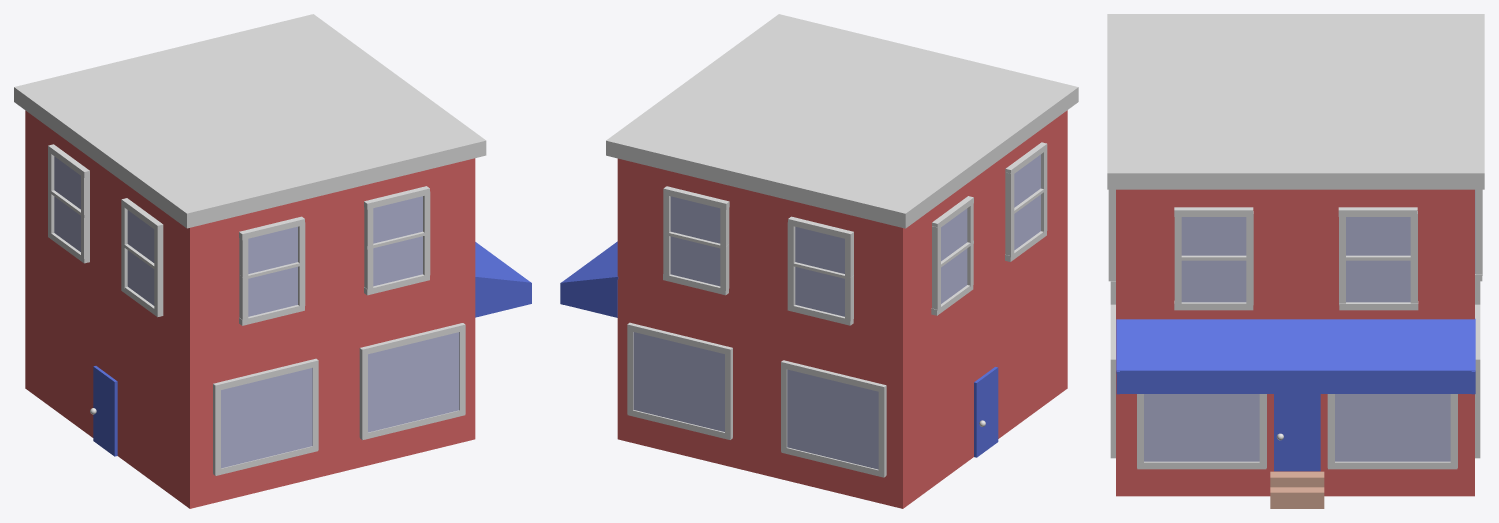
The model's file is onebyoneshop.glb.
3 renders of one model, left to right at view 1: azimuth 30°, elevation 25°; view 2: azimuth 150°, elevation 25°; view 3: azimuth 270°, elevation 25°, orthographic. The views are drawn at different scales.
Visible parts, largest first — view 1: Cube, Cube.001, Cube.007, Cube.027, Cube.010, Cube.009, Cube.019, Cube.028, Cube.006, Cube.013, Cube.015, Cube.030 (+4 smaller); view 2: Cube, Cube.001, Cube.025, Cube.008, Cube.011, Cube.012, Cube.026, Cube.023, Cube.015, Cube.017, Cube.018, Cube.030 (+4 smaller); view 3: Cube.001, Cube, Cube.015, Cube.004, Cube.005, Cube.002, Cube.003, Cube.024, Cube.014, Cube.016, Cube.021, Cube.020 (+5 smaller).
Boxes of the visible parts, x1,y1,x2,y2 form: Cube: [25, 110, 475, 508]; Cube.001: [14, 14, 486, 228]; Cube.007: [368, 332, 459, 432]; Cube.027: [221, 368, 312, 468]; Cube.010: [248, 226, 297, 316]; Cube.009: [373, 196, 422, 286]; Cube.019: [359, 323, 465, 440]; Cube.028: [213, 358, 318, 475]; Cube.006: [364, 186, 430, 295]; Cube.013: [239, 216, 305, 325]; Cube.015: [475, 242, 531, 317]; Cube.030: [121, 198, 163, 317]; Cube: [617, 110, 1067, 508]; Cube.001: [606, 14, 1078, 228]; Cube.025: [787, 369, 878, 469]; Cube.008: [633, 332, 724, 431]; Cube.011: [670, 196, 720, 286]; Cube.012: [795, 227, 844, 316]; Cube.026: [781, 360, 886, 477]; Cube.023: [627, 322, 732, 439]; Cube.015: [560, 241, 618, 317]; Cube.017: [663, 186, 729, 295]; Cube.018: [787, 216, 853, 325]; Cube.030: [1005, 142, 1047, 261]; Cube.001: [1107, 14, 1484, 189]; Cube: [1116, 189, 1474, 496]; Cube.015: [1116, 318, 1475, 394]; Cube.004: [1144, 394, 1259, 461]; Cube.005: [1335, 394, 1450, 461]; Cube.002: [1181, 217, 1246, 302]; Cube.003: [1346, 217, 1410, 302]; Cube.024: [1274, 394, 1320, 471]; Cube.014: [1174, 207, 1253, 310]; Cube.016: [1338, 207, 1418, 310]; Cube.021: [1327, 394, 1457, 469]; Cube.020: [1137, 394, 1266, 469].
Size of the model in its own units: 2.46 by 2.01 by 2.1.
